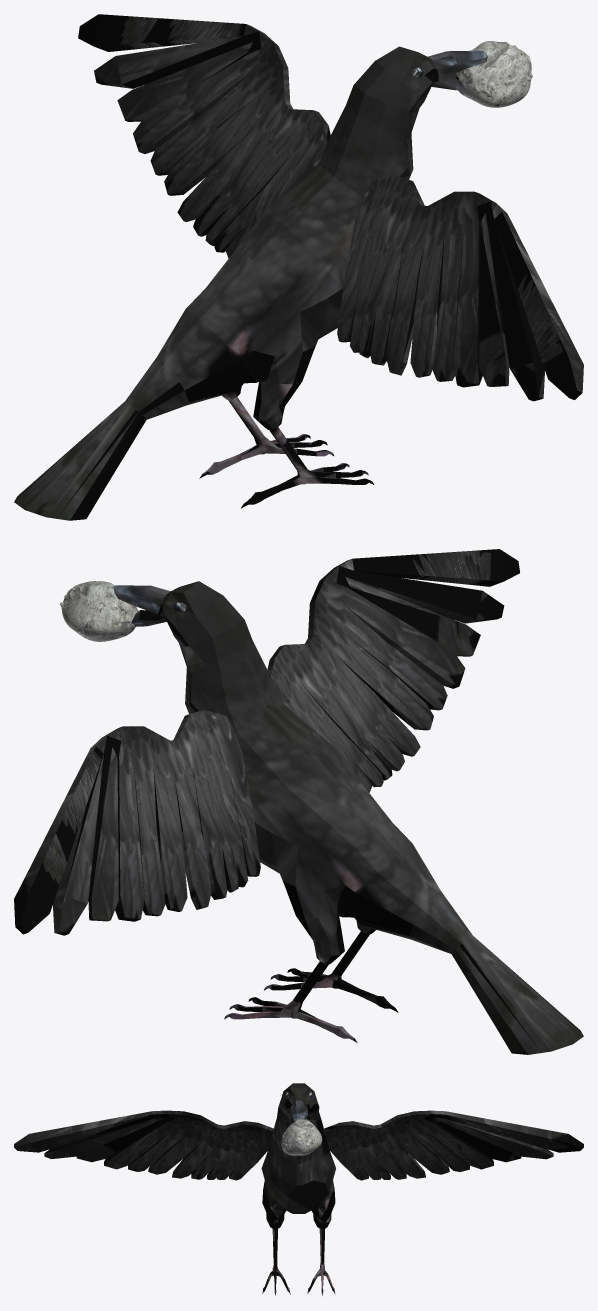
Rendered from crowTextureAnimPebble_000020.obj.
3 views of the same model, one above another, from view 1: azimuth 30°, elevation 25°; view 2: azimuth 150°, elevation 25°; view 3: azimuth 270°, elevation 25° (orthographic). The views are drawn at different scales.
Parts seen in each view (by area): view 1: Cylinder.001, Cylinder.003, Cylinder.002, Icosphere_Icosphere.002; view 2: Cylinder.001, Cylinder.002, Cylinder.003, Icosphere_Icosphere.002; view 3: Cylinder.002, Cylinder.003, Cylinder.001, Icosphere_Icosphere.002.
Part boxes in pixels (bbox=[...]): Cylinder.001: bbox=[14, 46, 487, 520]; Cylinder.003: bbox=[337, 175, 583, 401]; Cylinder.002: bbox=[78, 14, 330, 258]; Icosphere_Icosphere.002: bbox=[456, 41, 532, 107]; Cylinder.001: bbox=[112, 581, 583, 1054]; Cylinder.002: bbox=[14, 710, 260, 935]; Cylinder.003: bbox=[267, 549, 519, 792]; Icosphere_Icosphere.002: bbox=[60, 581, 138, 641]; Cylinder.002: bbox=[324, 1110, 583, 1180]; Cylinder.003: bbox=[14, 1110, 273, 1180]; Cylinder.001: bbox=[261, 1083, 335, 1295]; Icosphere_Icosphere.002: bbox=[281, 1119, 322, 1155].
Size of the model in its own units: 5.55 by 4.1 by 9.33.
